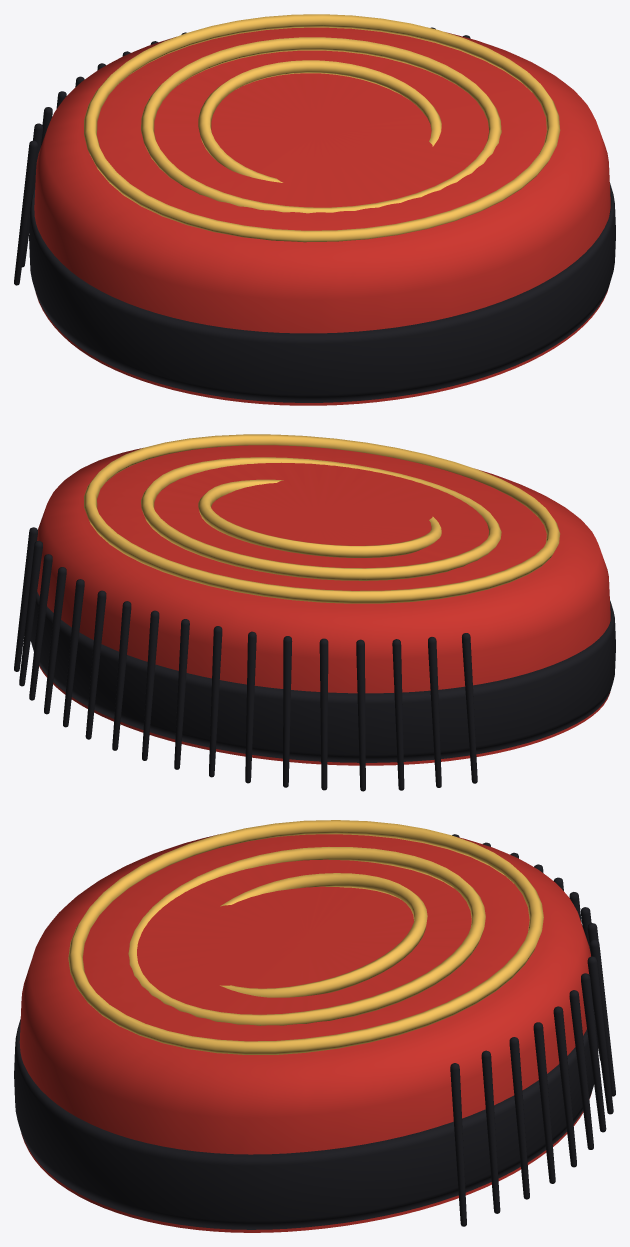
File: hw_capa.glb
3 renders of one model, top to bottom at view 1: azimuth 30°, elevation 25°; view 2: azimuth 150°, elevation 25°; view 3: azimuth 270°, elevation 25°, orthographic. The views are drawn at different scales.
Parts seen in each view (by area): view 1: hw_capa, hw_capa_side, hw_capa@gold_g, hw_capa@fringe_f; view 2: hw_capa, hw_capa_side, hw_capa@gold_g, hw_capa@fringe_f; view 3: hw_capa, hw_capa_side, hw_capa@gold_g, hw_capa@fringe_f.
Part boxes in pixels (x1=…): hw_capa: x1=34, y1=27, x2=610, y2=405; hw_capa_side: x1=29, y1=183, x2=615, y2=402; hw_capa@gold_g: x1=84, y1=14, x2=560, y2=242; hw_capa@fringe_f: x1=14, y1=27, x2=470, y2=285; hw_capa: x1=37, y1=445, x2=610, y2=765; hw_capa_side: x1=30, y1=592, x2=615, y2=762; hw_capa@gold_g: x1=84, y1=434, x2=560, y2=603; hw_capa@fringe_f: x1=14, y1=527, x2=477, y2=791; hw_capa: x1=19, y1=834, x2=591, y2=1232; hw_capa_side: x1=14, y1=1007, x2=598, y2=1229; hw_capa@gold_g: x1=68, y1=820, x2=543, y2=1054; hw_capa@fringe_f: x1=450, y1=834, x2=615, y2=1226.
Size of the model in its own units: 0.7197 by 0.2478 by 0.6633.
